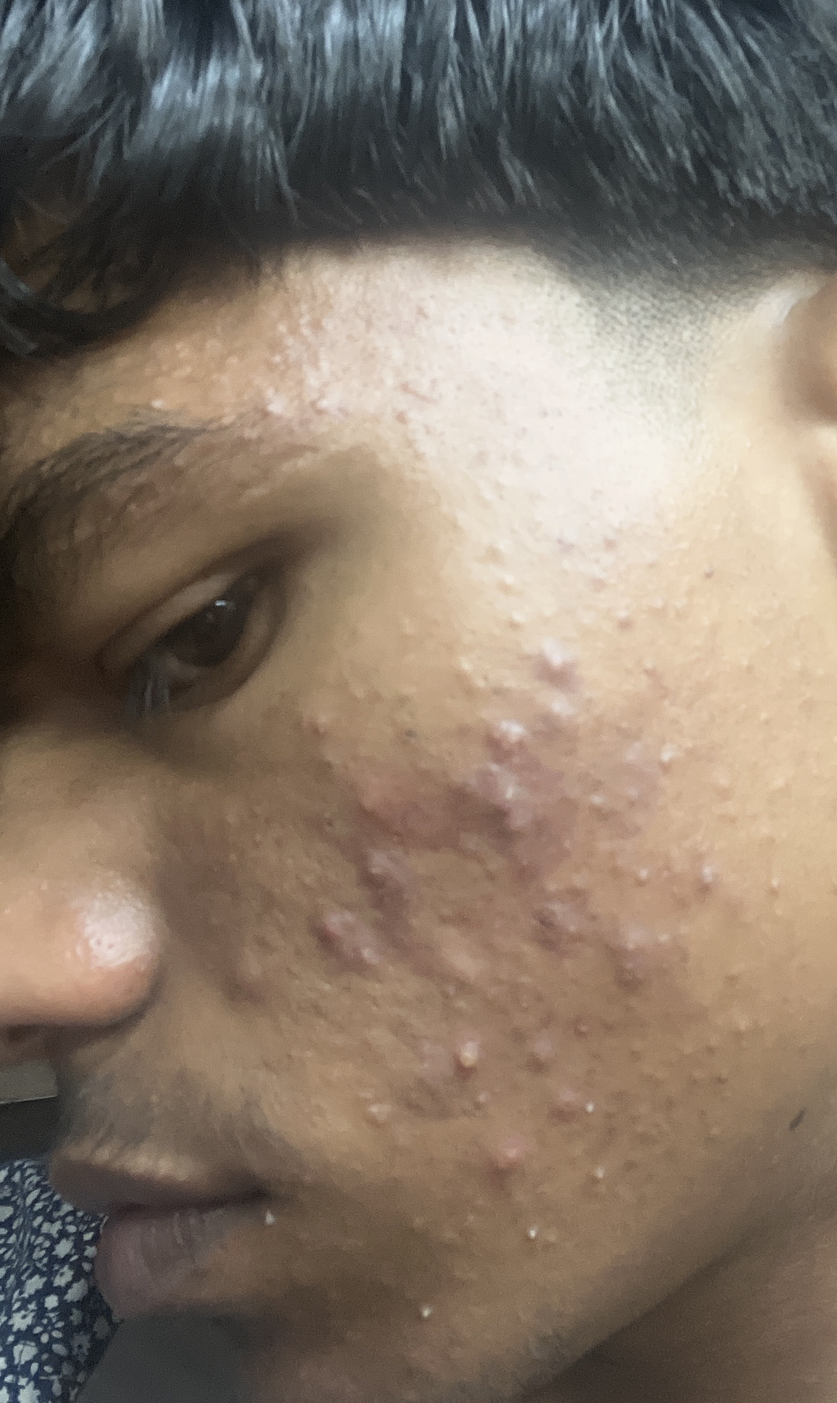pustule: (523, 627, 597, 697), (425, 1026, 511, 1083), (469, 708, 543, 771)
